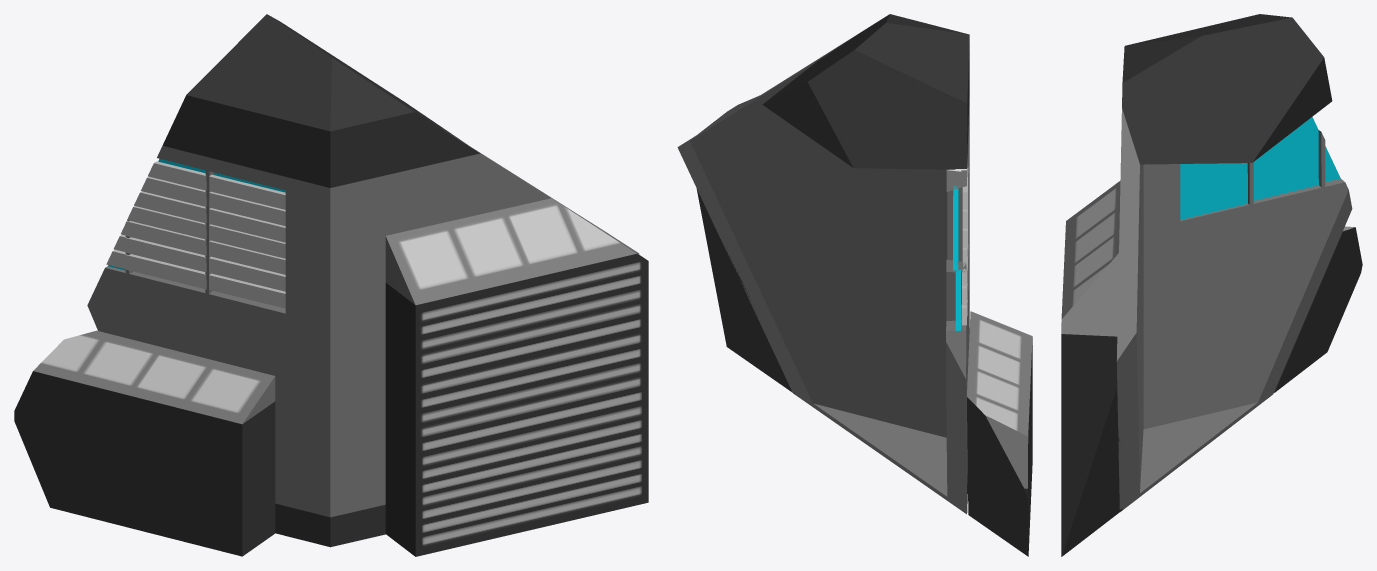
3 views of the same model, side by side, from view 1: azimuth 30°, elevation 25°; view 2: azimuth 150°, elevation 25°; view 3: azimuth 270°, elevation 25° (orthographic). The views are drawn at different scales.
Visible parts, largest first — view 1: Base_3; view 2: Base_3; view 3: Base_3.
Boxes of the visible parts, x1=… form: Base_3: x1=14, y1=14, x2=648, y2=556; Base_3: x1=677, y1=14, x2=1032, y2=556; Base_3: x1=1061, y1=14, x2=1362, y2=556.
Size of the model in its own units: 1433 by 1279 by 823.
